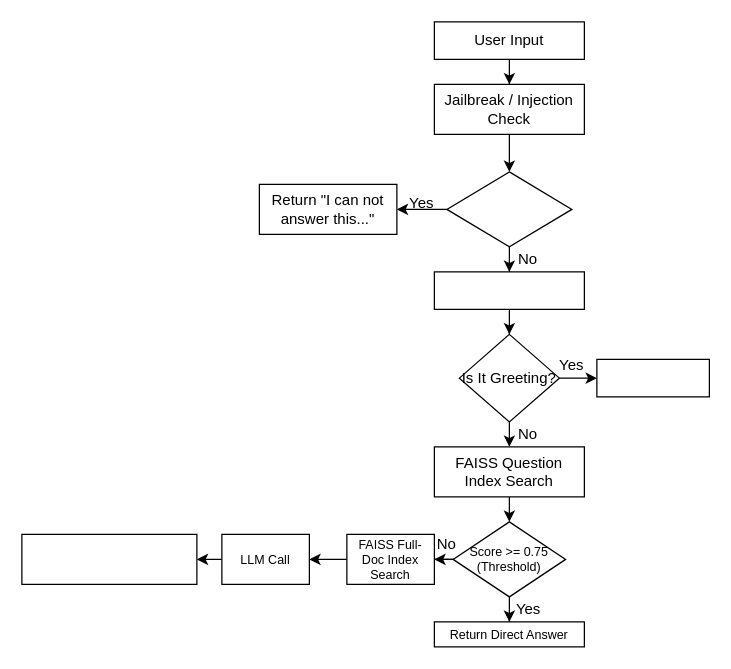
Some shapes in this 731 by 669 pixel diagram are drawn without their labels. Each missing label, with the box of its shape:
Greeting Check: (433, 271, 584, 309)
Grounding / Validation check (Overlap keyword vs dataset then accept/reject): (21, 533, 197, 584)
Injection Detected?: (446, 171, 572, 247)
Return Greeting: (596, 358, 709, 397)
